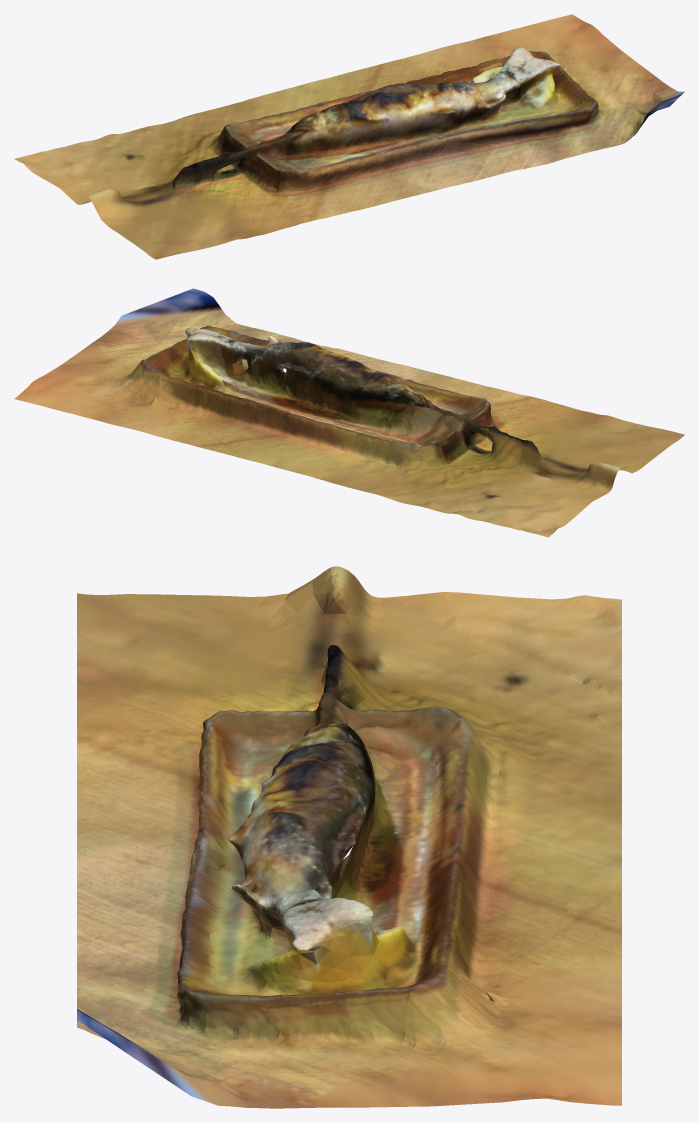
Rendered from ayu.glb.
3 views of the same model, one above another, from view 1: azimuth 30°, elevation 25°; view 2: azimuth 150°, elevation 25°; view 3: azimuth 270°, elevation 25° (orthographic). The views are drawn at different scales.
Parts seen in each view (by area): view 1: mesh; view 2: mesh; view 3: mesh.
Boxes of the visible parts, x1=… form: mesh: x1=14, y1=14, x2=684, y2=259; mesh: x1=14, y1=288, x2=684, y2=537; mesh: x1=77, y1=566, x2=621, y2=1108.
Bounding box in the file's own units: 0.3773 × 0.037 × 0.1664.
1 material, 1 textured.
